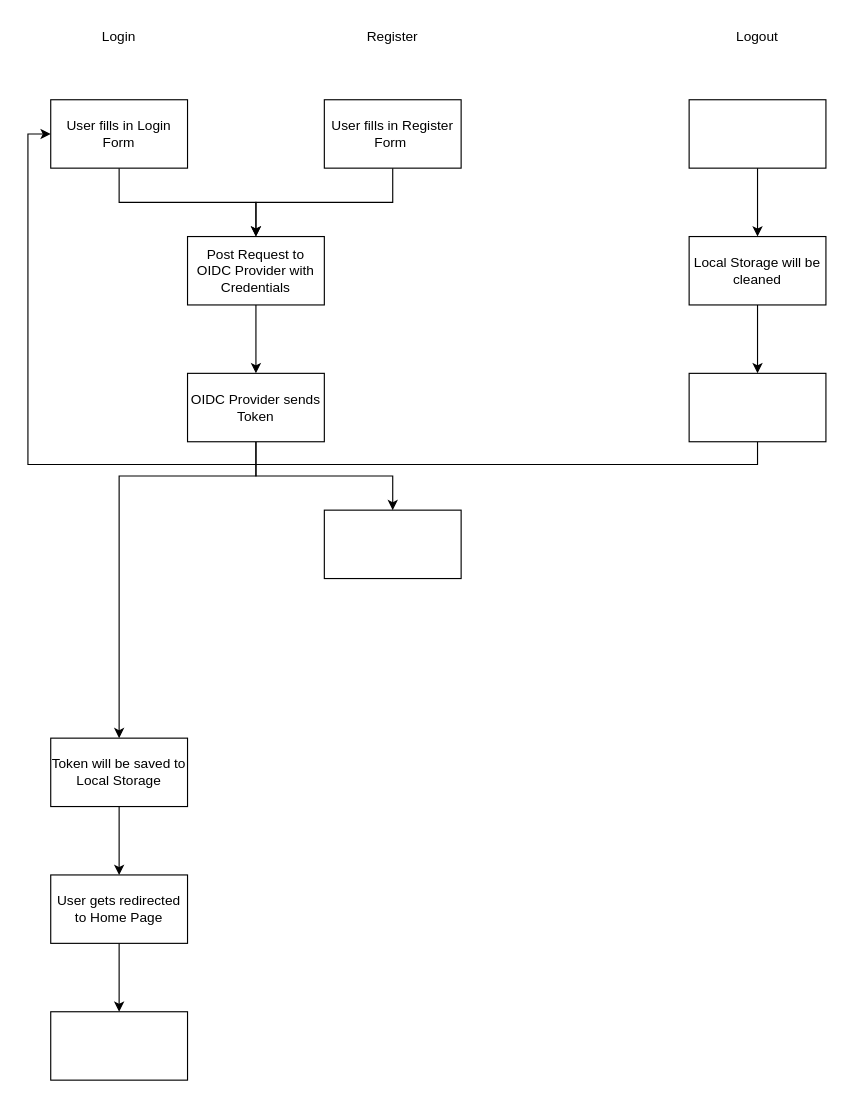
Some shapes in this 846 by 1100 pixel diagram are drawn without their labels. The shapes that lost their labels are listed below. From the top down, each one's centre as x and y in pixels, then its label:
At pixel 757 133: "User clicks logout button".
At pixel 757 407: "User gets redirected to Login Page".
At pixel 392 544: "Request for Email verification will be send".
At pixel 119 1045: "Requests will be send with Token".
